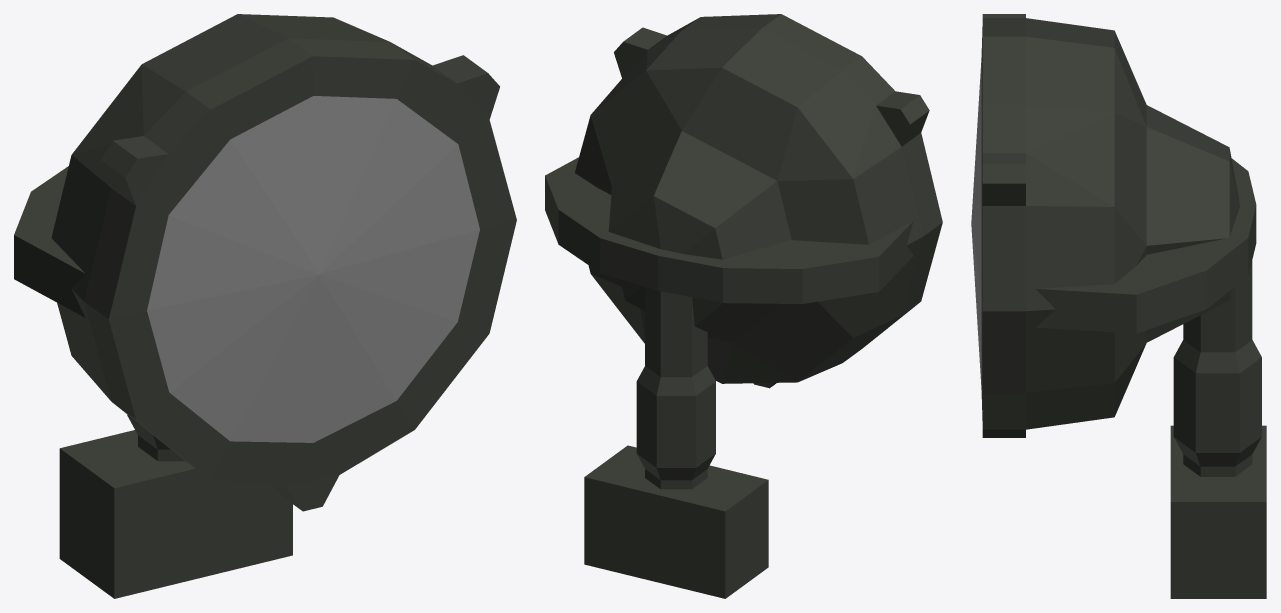
File: SM_Veh_Attach_Light_02.fbx
3 views of the same model, side by side, from view 1: azimuth 30°, elevation 25°; view 2: azimuth 150°, elevation 25°; view 3: azimuth 270°, elevation 25° (orthographic). The views are drawn at different scales.
Parts seen in each view (by area): view 1: SM_Veh_Attach_Light_02; view 2: SM_Veh_Attach_Light_02; view 3: SM_Veh_Attach_Light_02.
Boxes of the visible parts, x1=… form: SM_Veh_Attach_Light_02: x1=14, y1=14, x2=516, y2=598; SM_Veh_Attach_Light_02: x1=545, y1=14, x2=942, y2=598; SM_Veh_Attach_Light_02: x1=971, y1=14, x2=1266, y2=598.
Size of the model in its own units: 25.37 by 34.4 by 17.54.
